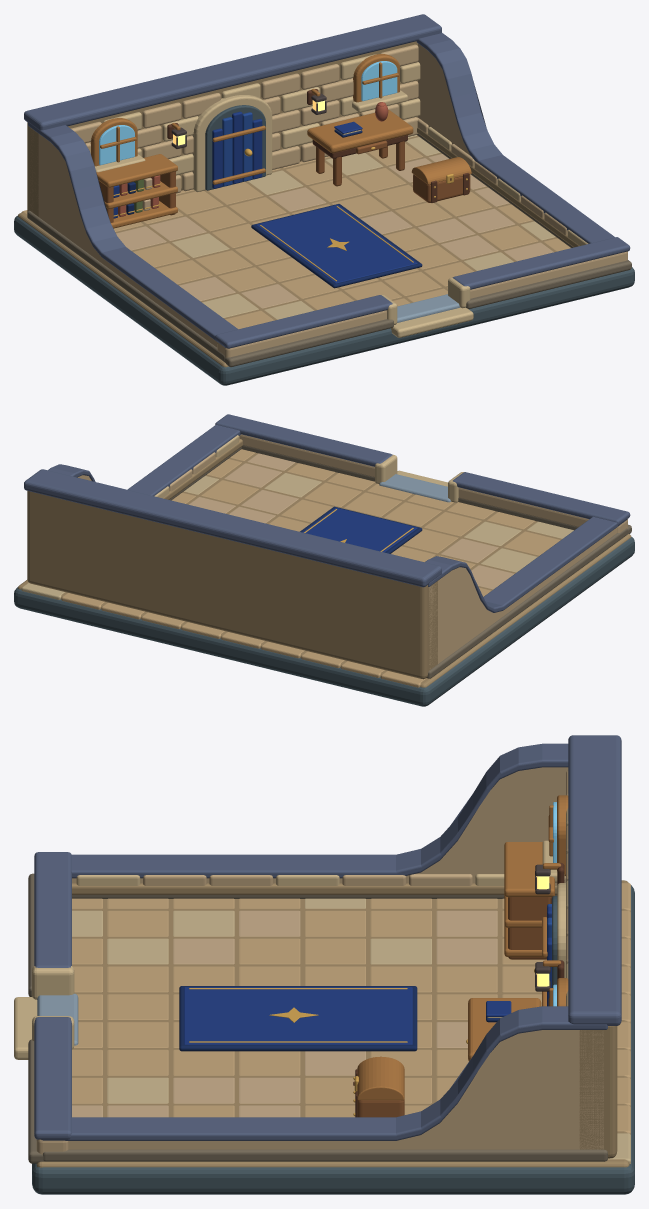
File: room-study.glb
3 renders of one model, top to bottom at view 1: azimuth 30°, elevation 25°; view 2: azimuth 150°, elevation 25°; view 3: azimuth 270°, elevation 25°, orthographic. The views are drawn at different scales.
Visible parts, largest first — view 1: Room_slate, Room_floor, Room_stone, Room_base, Room_mortar, Room_stone_light, Room_floor_warm, Room_wood_light, Room_blue, Room_stone_dark, Room_floor_pale, Room_wood (+7 smaller); view 2: Room_mortar, Room_slate, Room_floor, Room_base, Room_stone, Room_floor_warm, Room_floor_pale, Room_stone_dark, Room_blue, Room_stone_light, Room_slate_light, Room_blue_dark; view 3: Room_slate, Room_floor, Room_stone, Room_mortar, Room_base, Room_floor_warm, Room_blue, Room_stone_dark, Room_floor_pale, Room_wood_light, Room_stone_light, Room_blue_dark (+3 smaller).
Boxes of the visible parts, x1,y1,x2,y2 form: Room_slate: [24, 14, 630, 348]; Room_floor: [21, 143, 570, 329]; Room_stone: [30, 43, 627, 357]; Room_base: [14, 105, 634, 385]; Room_mortar: [18, 41, 579, 367]; Room_stone_light: [95, 54, 588, 337]; Room_floor_warm: [116, 154, 553, 308]; Room_wood_light: [90, 54, 471, 228]; Room_blue: [113, 111, 417, 283]; Room_stone_dark: [27, 134, 631, 367]; Room_floor_pale: [172, 129, 555, 319]; Room_wood: [99, 140, 470, 222]; Room_mortar: [18, 439, 631, 687]; Room_slate: [24, 414, 630, 612]; Room_floor: [61, 449, 560, 687]; Room_base: [14, 537, 634, 706]; Room_stone: [77, 434, 627, 668]; Room_floor_warm: [189, 453, 514, 589]; Room_floor_pale: [21, 473, 573, 599]; Room_stone_dark: [169, 445, 631, 678]; Room_blue: [302, 507, 417, 552]; Room_stone_light: [154, 435, 464, 502]; Room_slate_light: [379, 474, 450, 502]; Room_blue_dark: [300, 506, 422, 553]; Room_slate: [34, 735, 621, 1140]; Room_floor: [72, 883, 630, 1134]; Room_stone: [36, 767, 603, 1154]; Room_mortar: [36, 880, 629, 1167]; Room_base: [32, 885, 634, 1194]; Room_floor_warm: [72, 910, 497, 1117]; Room_blue: [184, 906, 551, 1044]; Room_stone_dark: [28, 873, 607, 1163]; Room_floor_pale: [72, 898, 630, 1163]; Room_wood_light: [357, 795, 568, 1100]; Room_stone_light: [14, 808, 568, 1059]; Room_blue_dark: [179, 986, 499, 1051].
Bounding box in the file's own units: 10.4 × 3.02 × 9.43.
